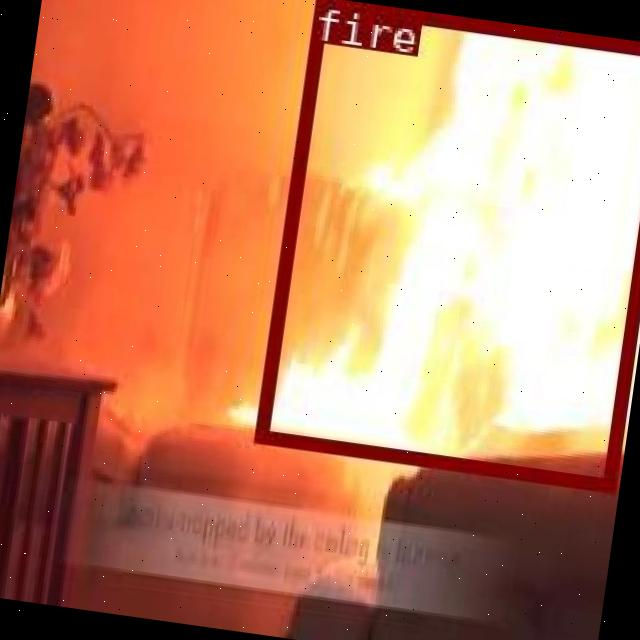fire: (254, 0, 640, 488)
